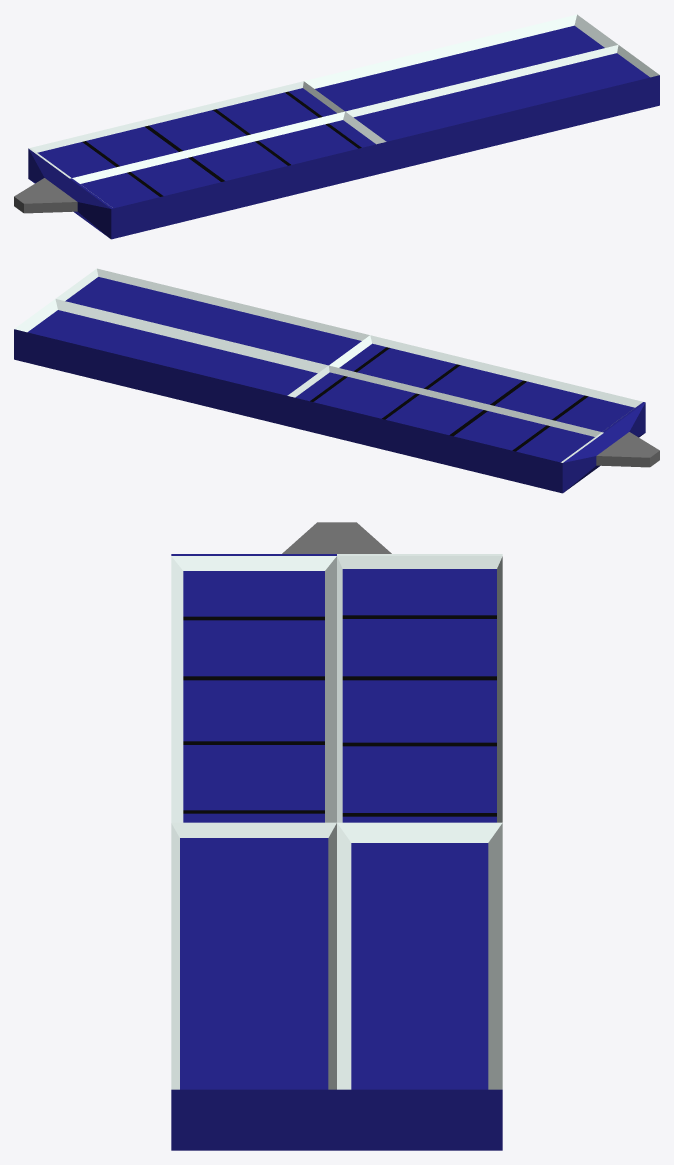
Rendered from Satellite2.fbx.
The picture shows the model from 3 angles, top to bottom: view 1: azimuth 30°, elevation 25°; view 2: azimuth 150°, elevation 25°; view 3: azimuth 270°, elevation 25°; orthographic projection. The views are drawn at different scales.
Visible parts, largest first — view 1: Cube; view 2: Cube; view 3: Cube.
Part boxes in pixels (x1,y1,x2,y2): Cube: (14, 14, 659, 239); Cube: (14, 268, 659, 493); Cube: (171, 522, 502, 1150).
Bounding box in the file's own units: 836 × 40.6 × 200.
